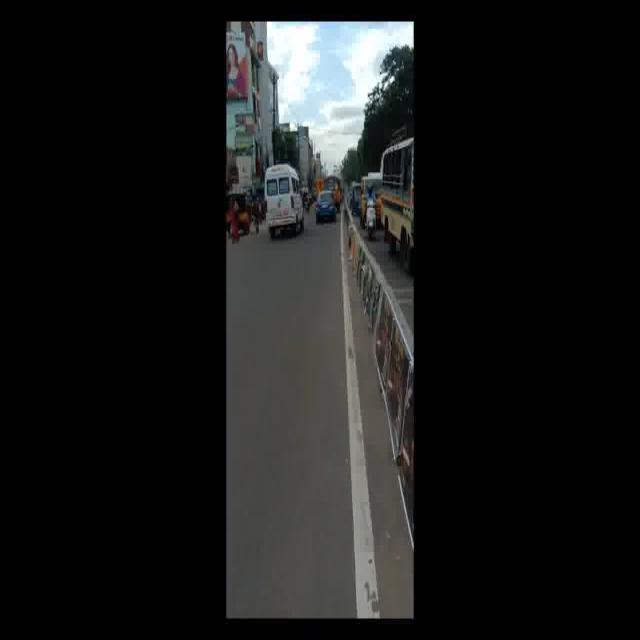ambulance: (263, 150, 314, 259)
